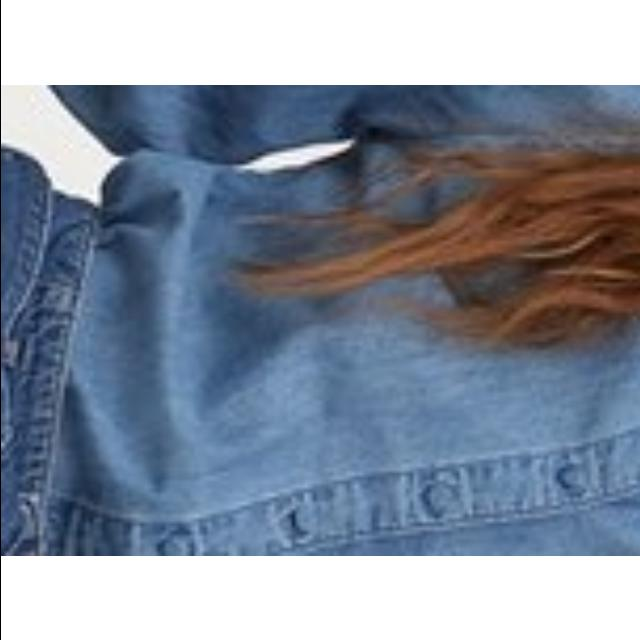denim: (0, 84, 640, 556)
